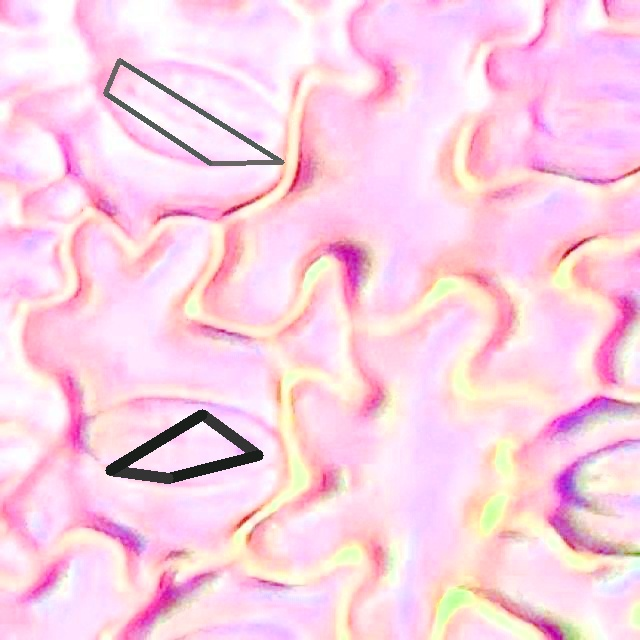close: (103, 58, 284, 165), (105, 409, 262, 482)
